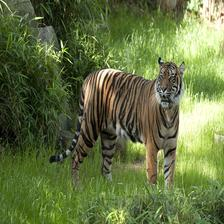tiger: (69, 56, 190, 191)
